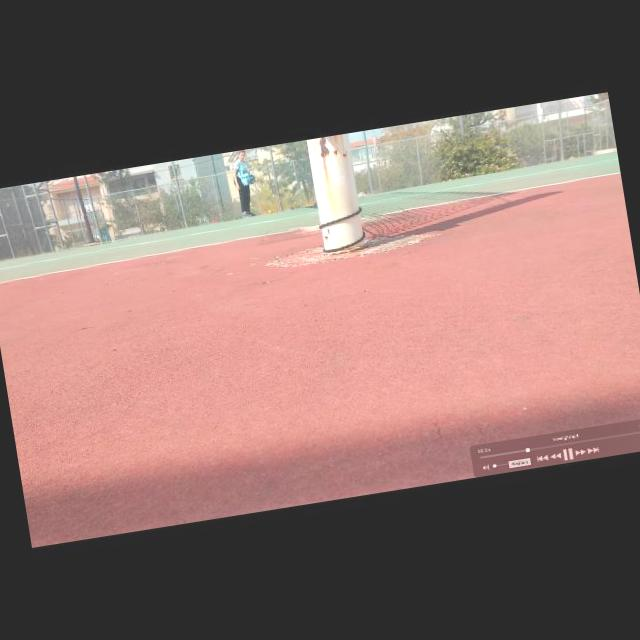tennis-ball: (268, 210, 272, 214)
